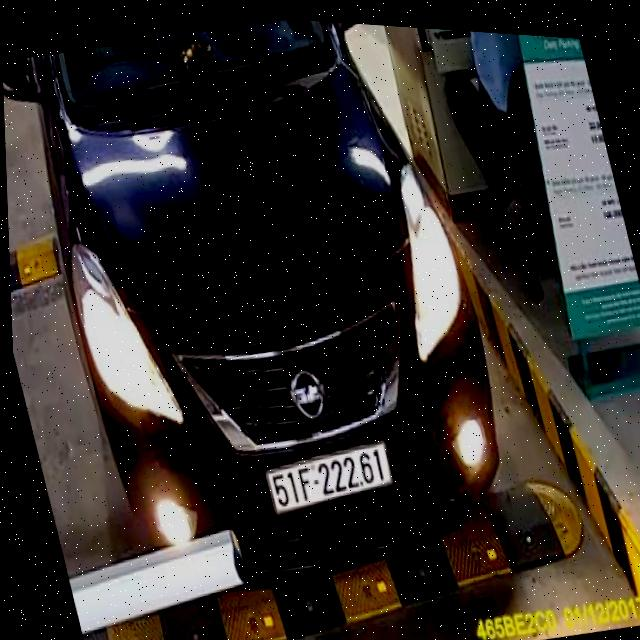car: (0, 0, 543, 640)
plate: (258, 431, 401, 522)
